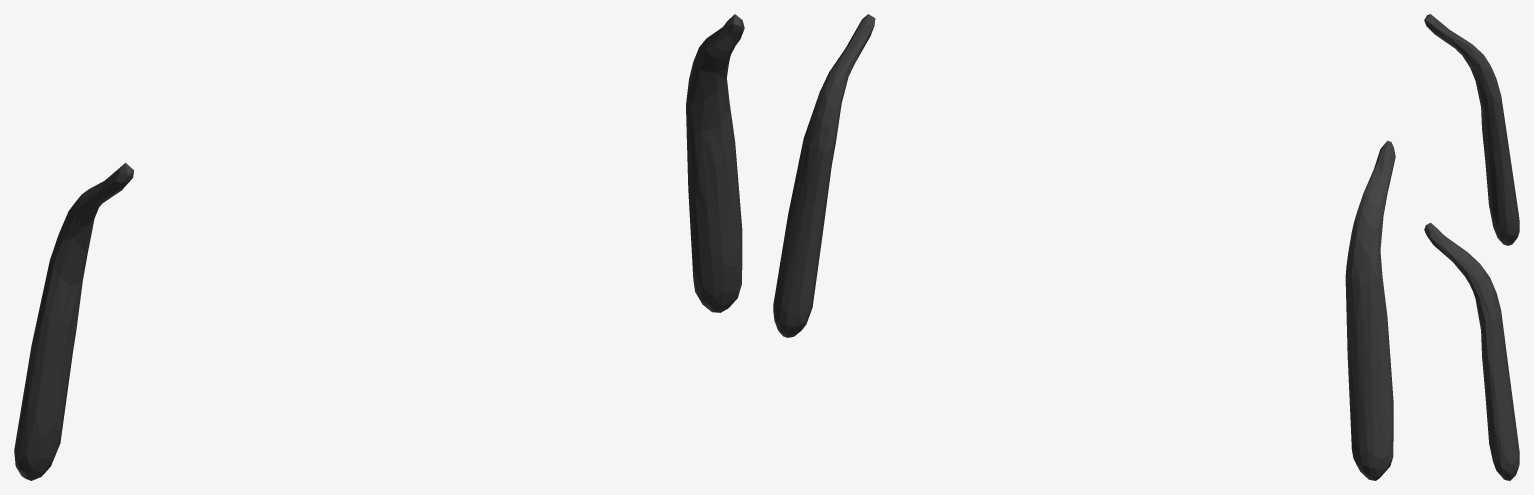
Rendered from m_adductor_digit_II.glb.
3 renders of one model, left to right at view 1: azimuth 30°, elevation 25°; view 2: azimuth 150°, elevation 25°; view 3: azimuth 270°, elevation 25°, orthographic. The views are drawn at different scales.
Visible parts, largest first — view 1: m_adductor_digit_II; view 2: m_adductor_digit_II; view 3: m_adductor_digit_II.
Boxes of the visible parts, <box> form: m_adductor_digit_II: <box>14,14,744,480</box>; m_adductor_digit_II: <box>773,14,1395,480</box>; m_adductor_digit_II: <box>1424,14,1519,480</box>.
Size of the model in its own units: 0.0032 by 0.00147 by 0.000522.
1 material, 1 textured.
